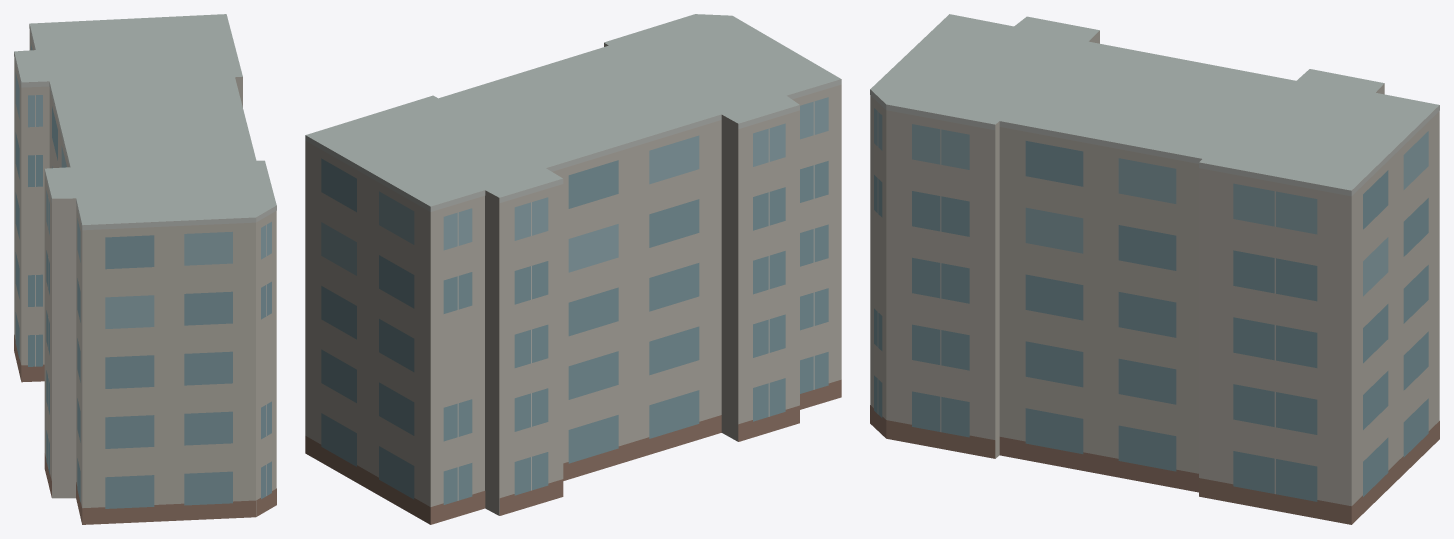
Rendered from survey-upis-32930389.glb.
3 renders of one model, left to right at view 1: azimuth 30°, elevation 25°; view 2: azimuth 150°, elevation 25°; view 3: azimuth 270°, elevation 25°, orthographic. The views are drawn at different scales.
Parts seen in each view (by area): view 1: survey-upis-32930389.tmp; view 2: survey-upis-32930389.tmp; view 3: survey-upis-32930389.tmp.
Boxes of the visible parts, <box> form: survey-upis-32930389.tmp: <box>14,14,276,524</box>; survey-upis-32930389.tmp: <box>305,14,841,524</box>; survey-upis-32930389.tmp: <box>870,14,1439,524</box>.
Size of the model in its own units: 16.1 by 14.2 by 21.94.
